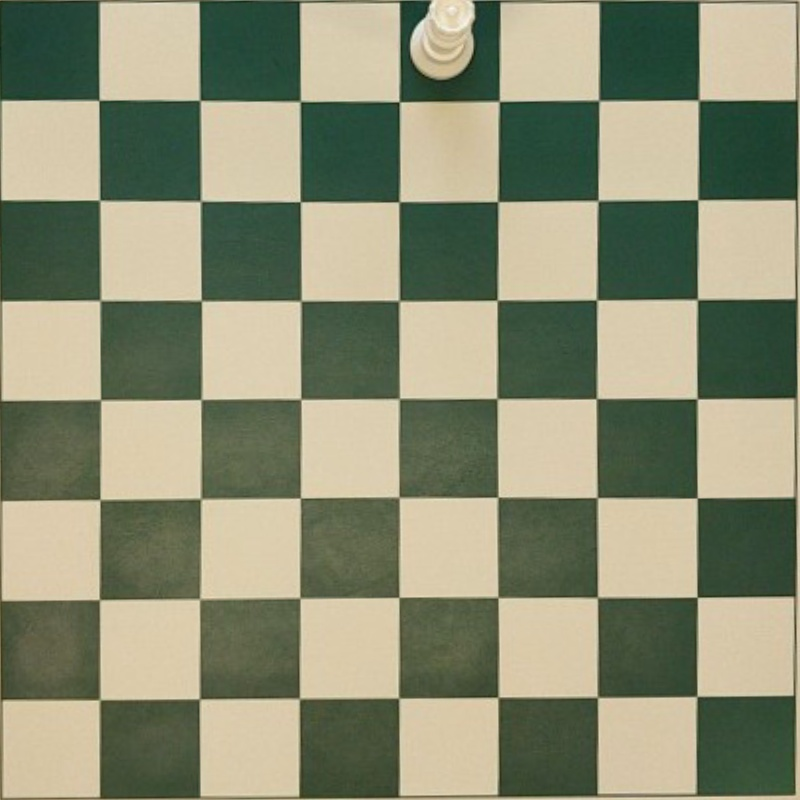white-queen: (409, 0, 476, 80)
